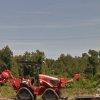Tractor: (11, 50, 63, 99)
